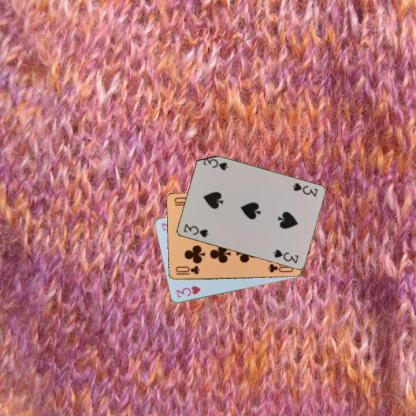10c: (172, 264, 202, 276)
3h: (173, 284, 202, 300)
3s: (181, 221, 210, 239), (289, 180, 318, 198)
